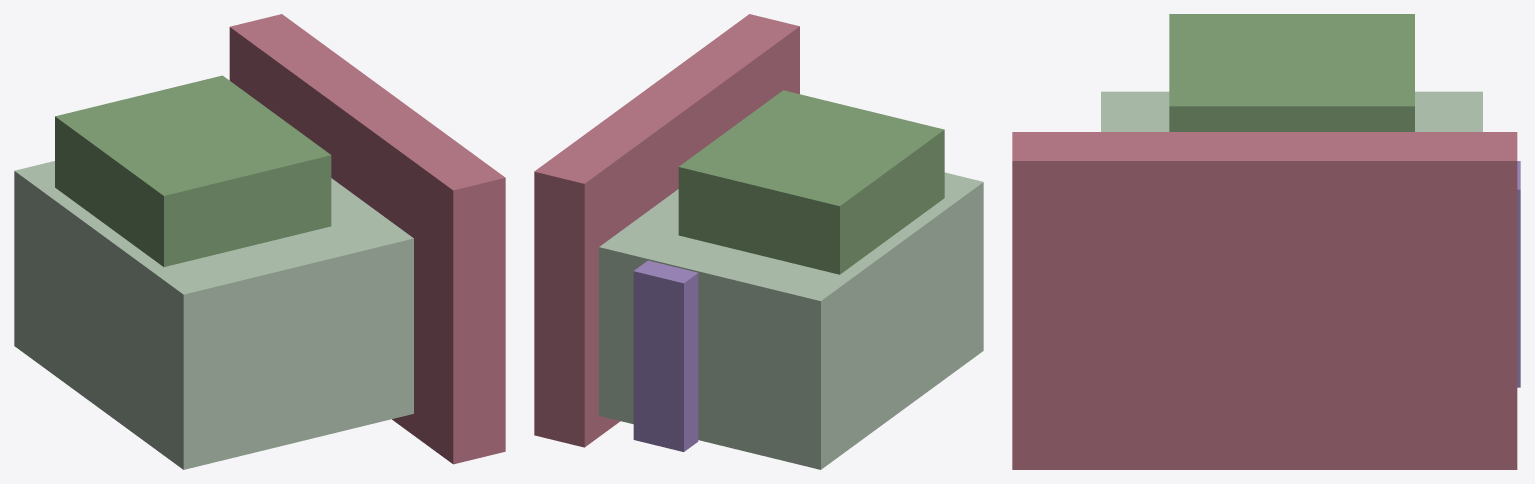
Rendered from 199510_pred.glb.
3 renders of one model, left to right at view 1: azimuth 30°, elevation 25°; view 2: azimuth 150°, elevation 25°; view 3: azimuth 270°, elevation 25°, orthographic. The views are drawn at different scales.
Visible parts, largest first — view 1: world; view 2: world; view 3: world.
Boxes of the visible parts, bbox=[...] form: world: bbox=[14, 14, 505, 469]; world: bbox=[534, 14, 983, 469]; world: bbox=[1012, 14, 1520, 469].
Size of the model in its own units: 5.4 by 5 by 7.45.
